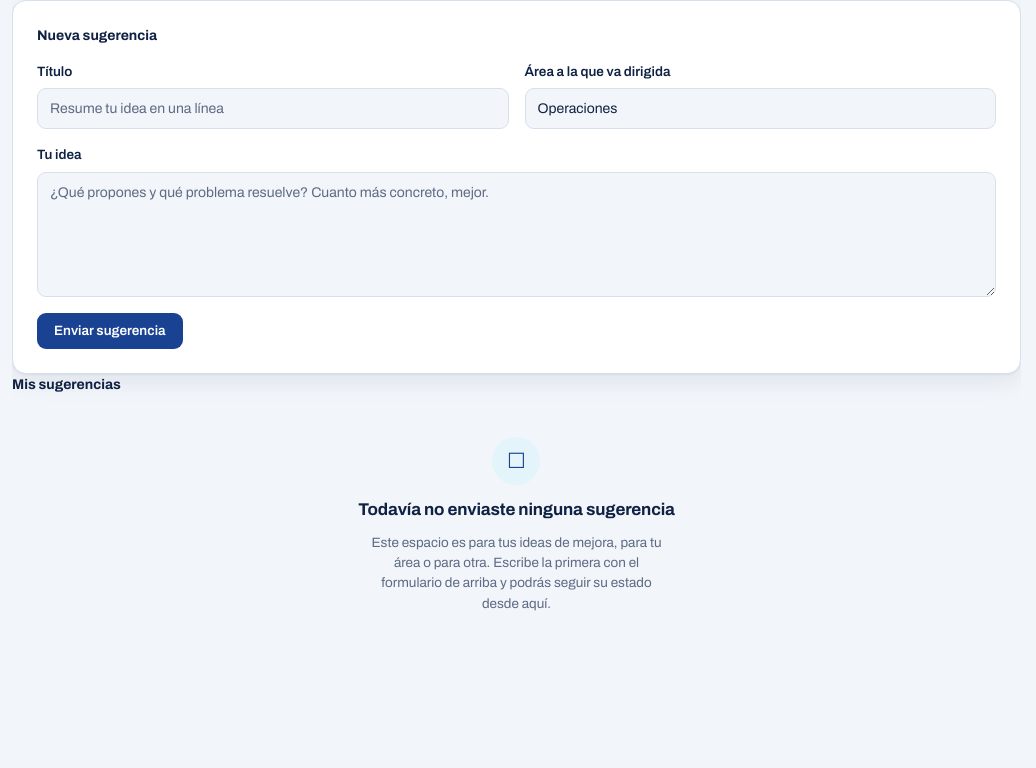
el envío › conserva lo escrito cuando el envío falla
Type "Tablero de peajes" into the field labelled "Título".
click(273, 109); type("Tablero de peajes")  # box top-left (37, 88), bottom-right (508, 129)
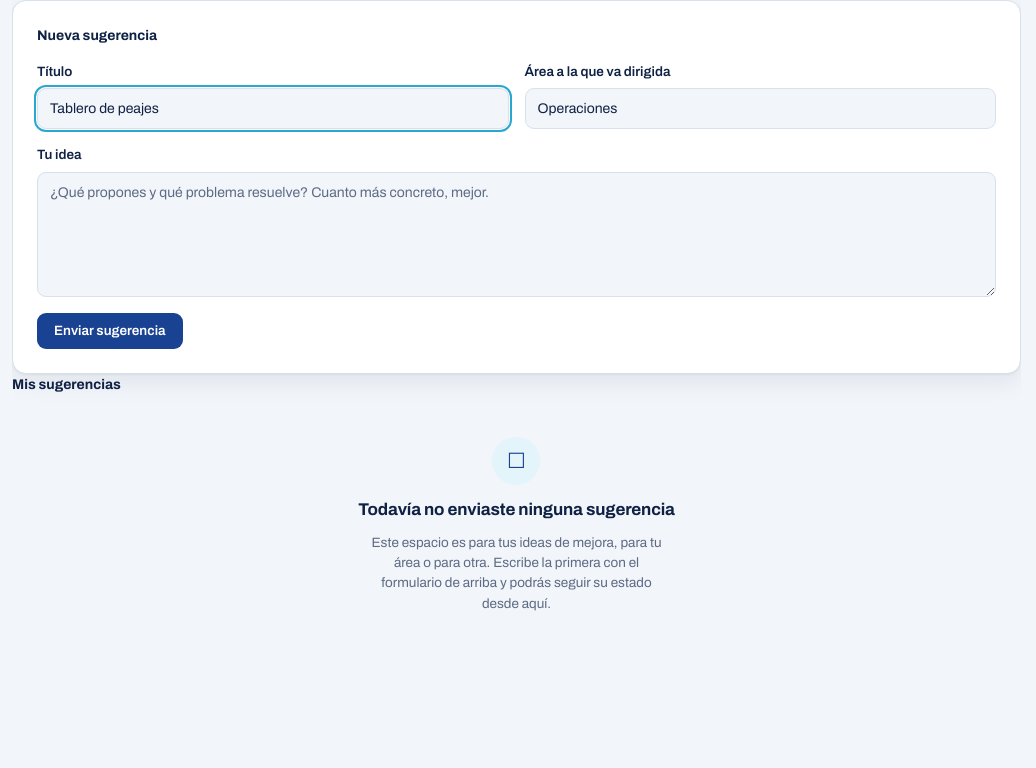
Type "Ver el flujo por caseta." into the text box labelled "Tu idea".
click(516, 234); type("Ver el flujo por caseta.")  # box top-left (37, 172), bottom-right (996, 296)
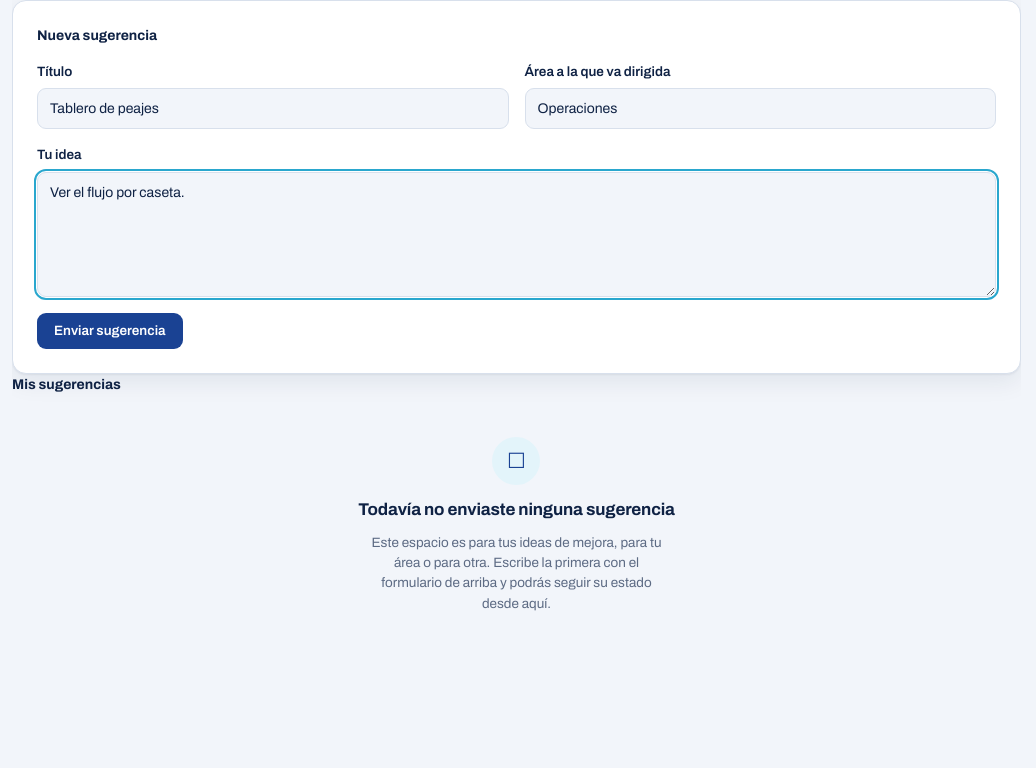
Click the button "Enviar sugerencia".
click(110, 331)  # box top-left (37, 312), bottom-right (183, 349)
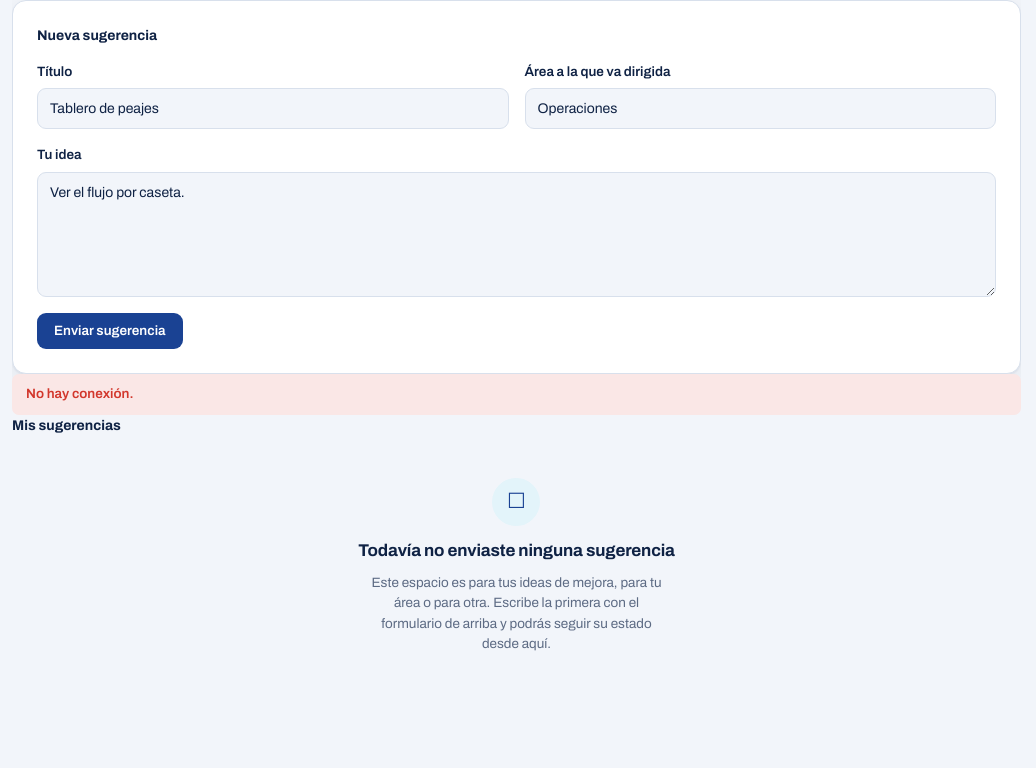
Expected: the message "No hay conexión." is shown, top-left (12, 374), bottom-right (1021, 415)
